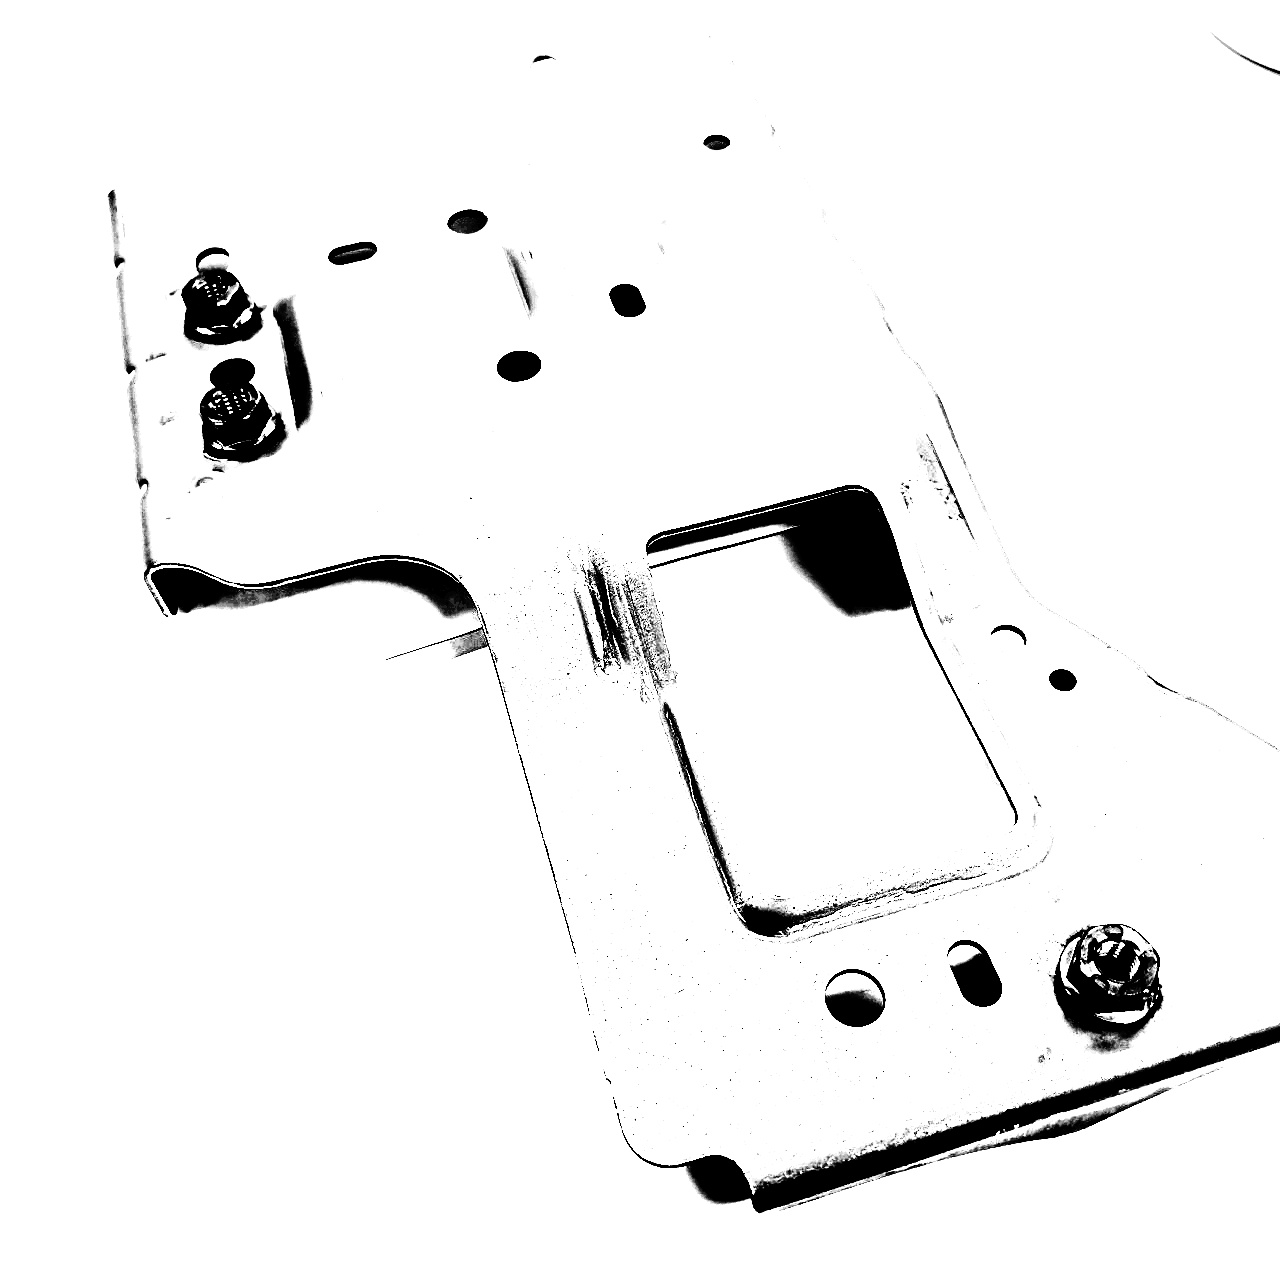dog: (1050, 915, 1170, 1040), (195, 380, 290, 464), (178, 268, 266, 346)
